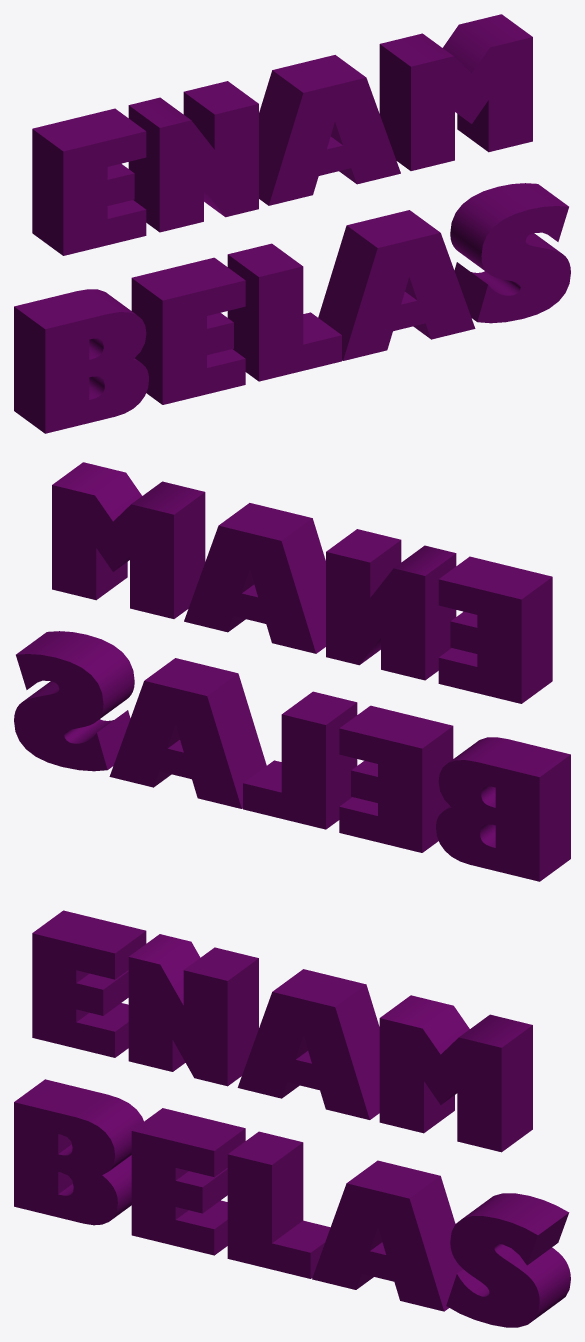
The model's file is ENAM BELAS.fbx.
The picture shows the model from 3 angles, top to bottom: view 1: azimuth 30°, elevation 25°; view 2: azimuth 150°, elevation 25°; view 3: azimuth 330°, elevation 25°; orthographic projection.
Parts seen in each view (by area): view 1: node_id144 (×2); view 2: node_id144 (×2); view 3: node_id144 (×2).
Boxes of the visible parts, x1,y1,x2,y2 form: node_id144 (×2): (14,14,570,433); node_id144 (×2): (14,462,570,881); node_id144 (×2): (14,910,570,1327).
Size of the model in its own units: 0.1461 by 0.0742 by 0.015.
